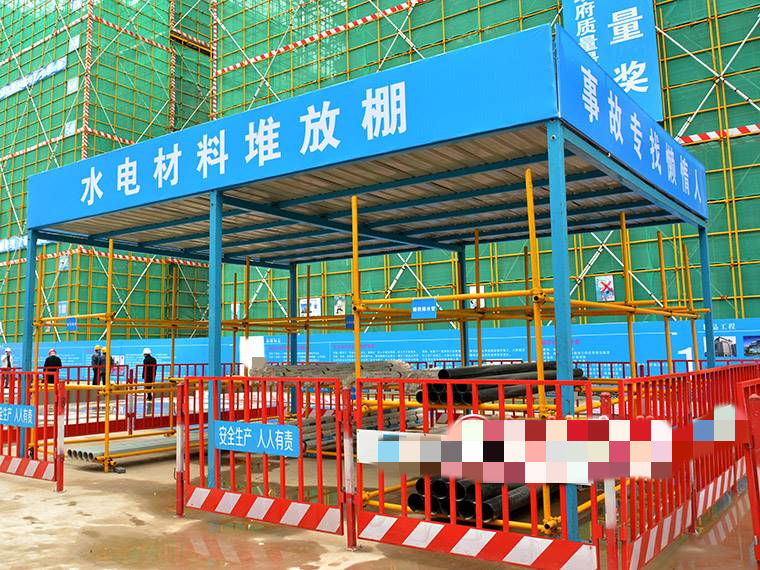helmet: (48, 347, 58, 353), (143, 348, 152, 354), (95, 345, 100, 350), (102, 347, 106, 352)
person: (141, 347, 158, 402), (42, 348, 64, 384), (1, 346, 16, 388), (99, 347, 115, 384), (90, 344, 101, 386)
slogan: (560, 35, 712, 221), (213, 419, 297, 457), (1, 405, 37, 430)
